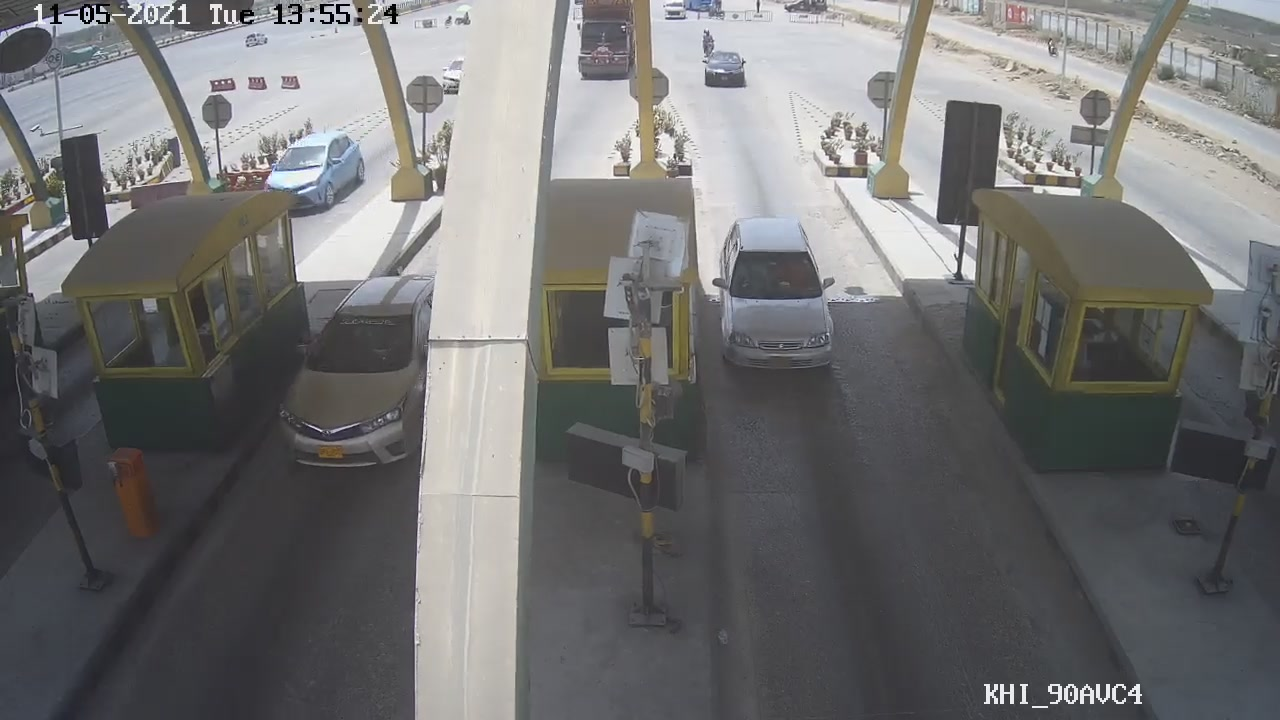F2: (707, 213, 840, 381)
